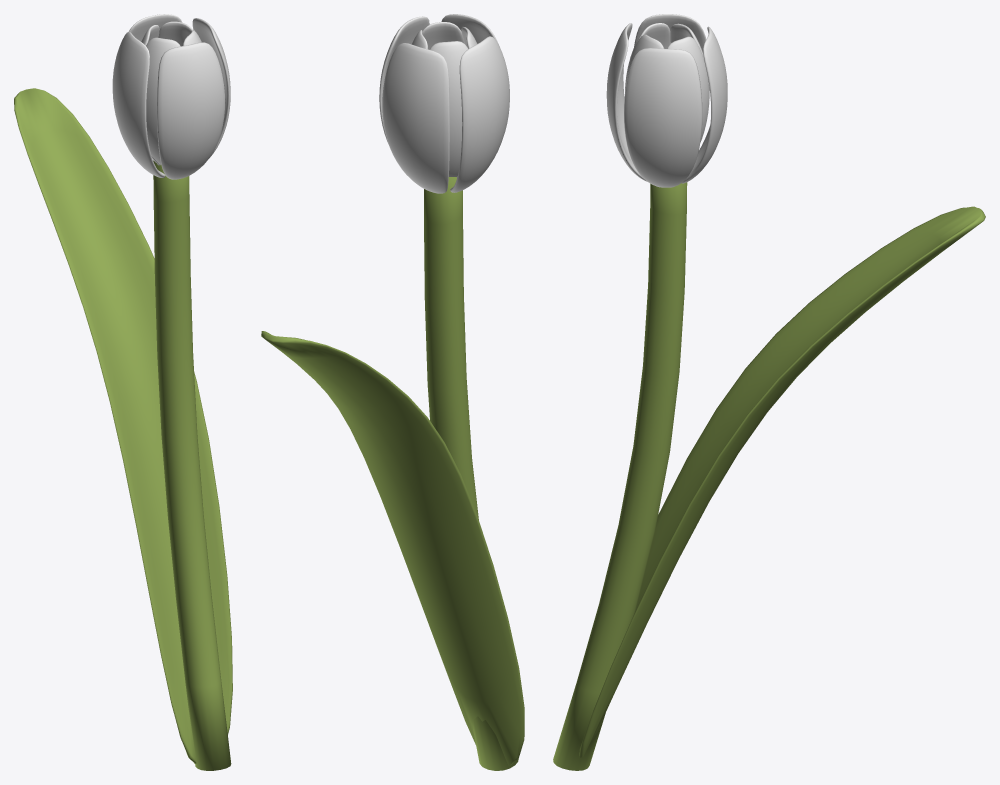
Rendered from tulip.fbx.
3 views of the same model, side by side, from view 1: azimuth 30°, elevation 25°; view 2: azimuth 150°, elevation 25°; view 3: azimuth 270°, elevation 25° (orthographic). The views are drawn at different scales.
Parts seen in each view (by area): view 1: Tulip; view 2: Tulip; view 3: Tulip.
Part boxes in pixels (left/top/right/bottom): Tulip: left=14, top=14, right=232, bottom=770; Tulip: left=261, top=14, right=524, bottom=770; Tulip: left=553, top=14, right=985, bottom=770.
Size of the model in its own units: 179 by 1203 by 641.
